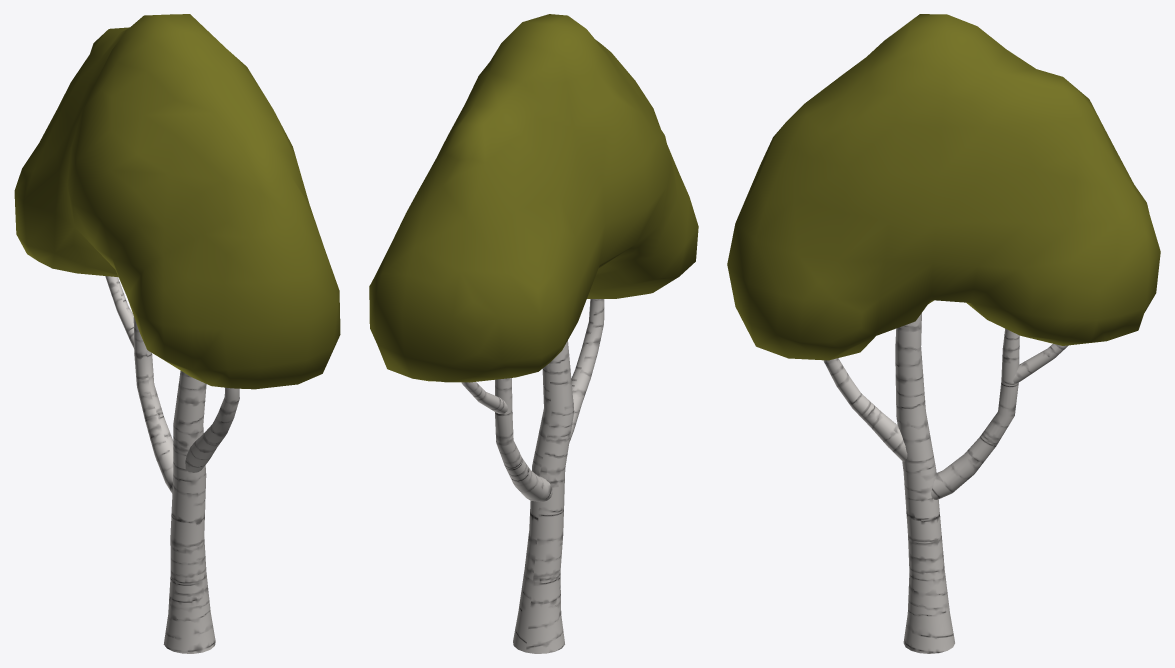
File: Sm_BirchTree1L.fbx
The picture shows the model from 3 angles, left to right: view 1: azimuth 30°, elevation 25°; view 2: azimuth 150°, elevation 25°; view 3: azimuth 270°, elevation 25°; orthographic projection. The views are drawn at different scales.
Parts seen in each view (by area): view 1: Sm_BirchTree1L; view 2: Sm_BirchTree1L; view 3: Sm_BirchTree1L.
Boxes of the visible parts, x1=… form: Sm_BirchTree1L: x1=14, y1=14, x2=340, y2=653; Sm_BirchTree1L: x1=369, y1=14, x2=698, y2=653; Sm_BirchTree1L: x1=727, y1=14, x2=1160, y2=653.
Size of the model in its own units: 175 by 525 by 334.
